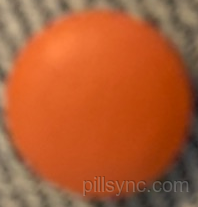Ibuprofen 200 MG Oral Tablet: (2, 9, 192, 200)
